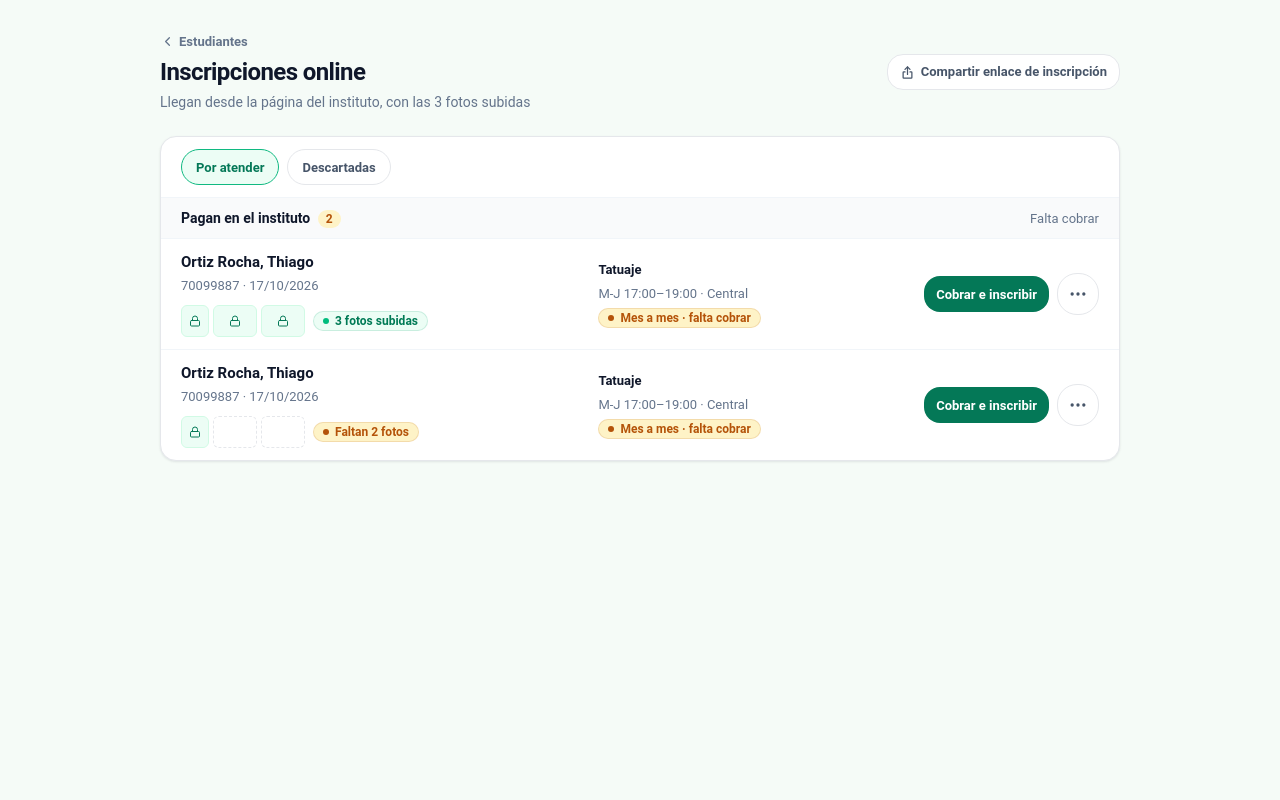
D3 · convertir sin las fotos › pregunta, convierte con fotosPendientes y el aviso dice que quedó con las fotos pendientes
Click the 1st button "Cobrar e inscribir" at [987, 294], box [924,276,1049,312]
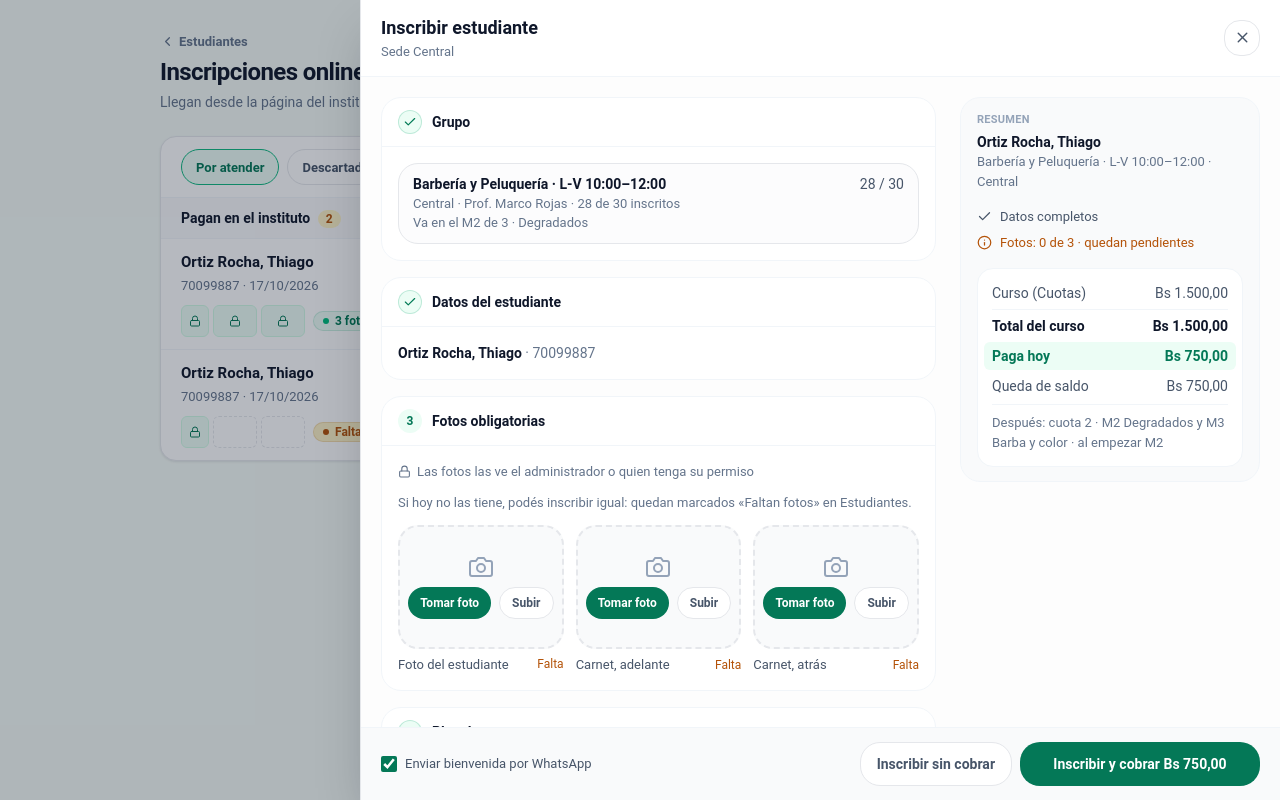
Click the button "Inscribir sin cobrar" at [936, 764], box [860,742,1012,786]
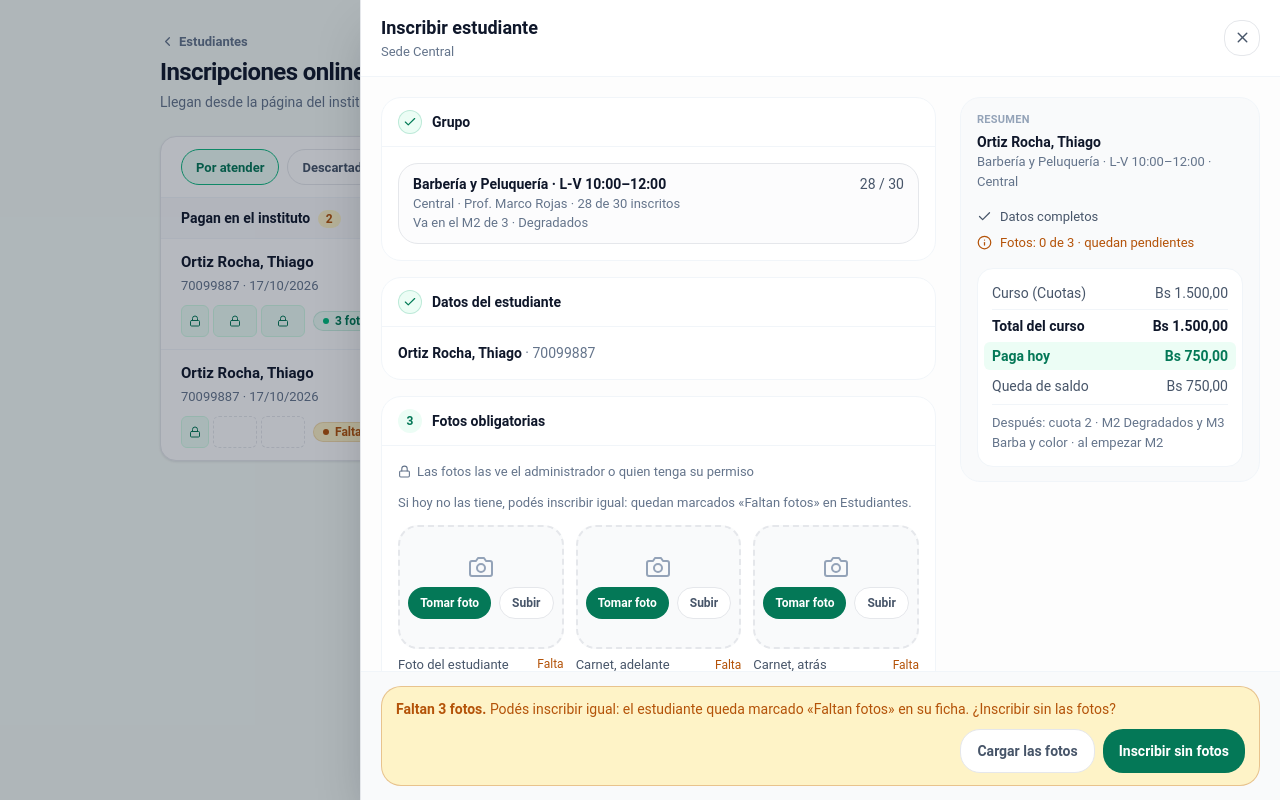
Click the button "Inscribir sin fotos" at [1174, 751], box [1103,729,1245,773]
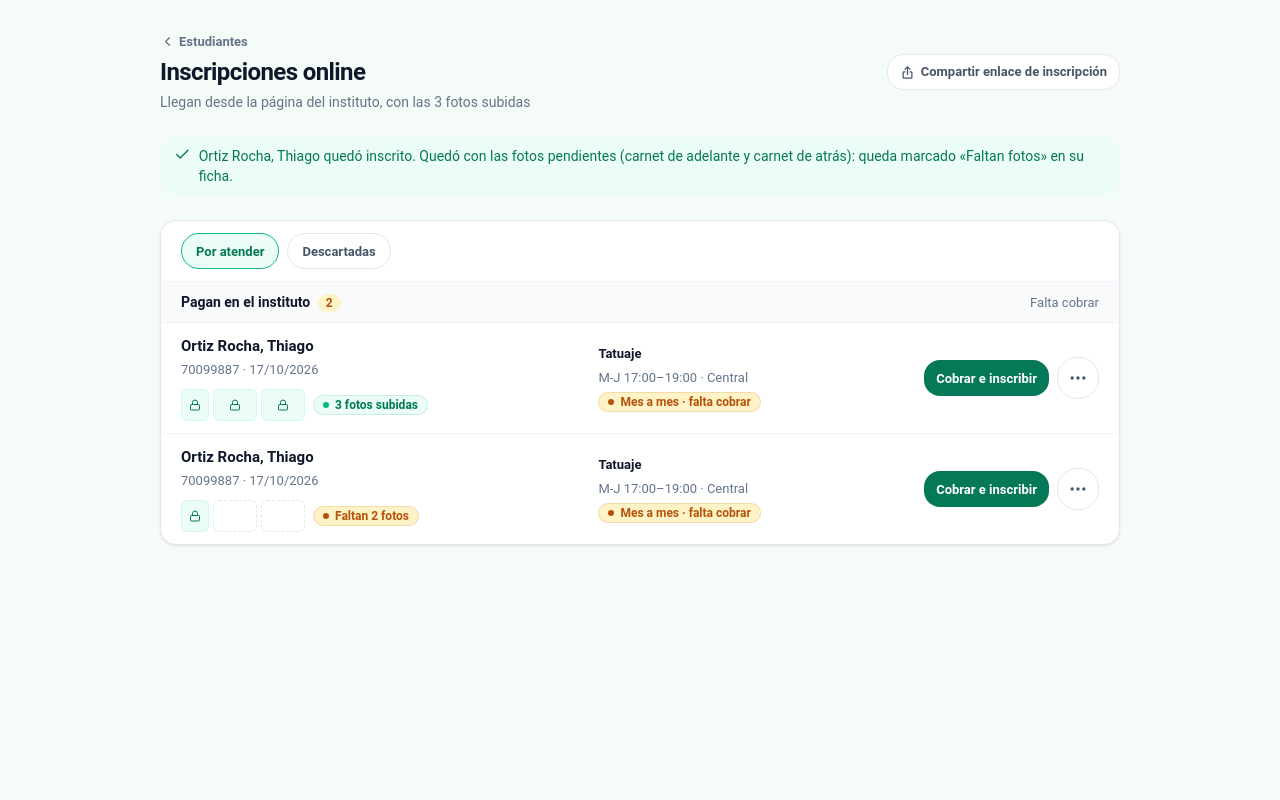
Expected: the text "Ortiz Rocha, Thiago quedó inscrito. Quedó con las fotos pendientes (carnet de adelante y carnet de atrás)" is shown, [199,148,1084,184]
